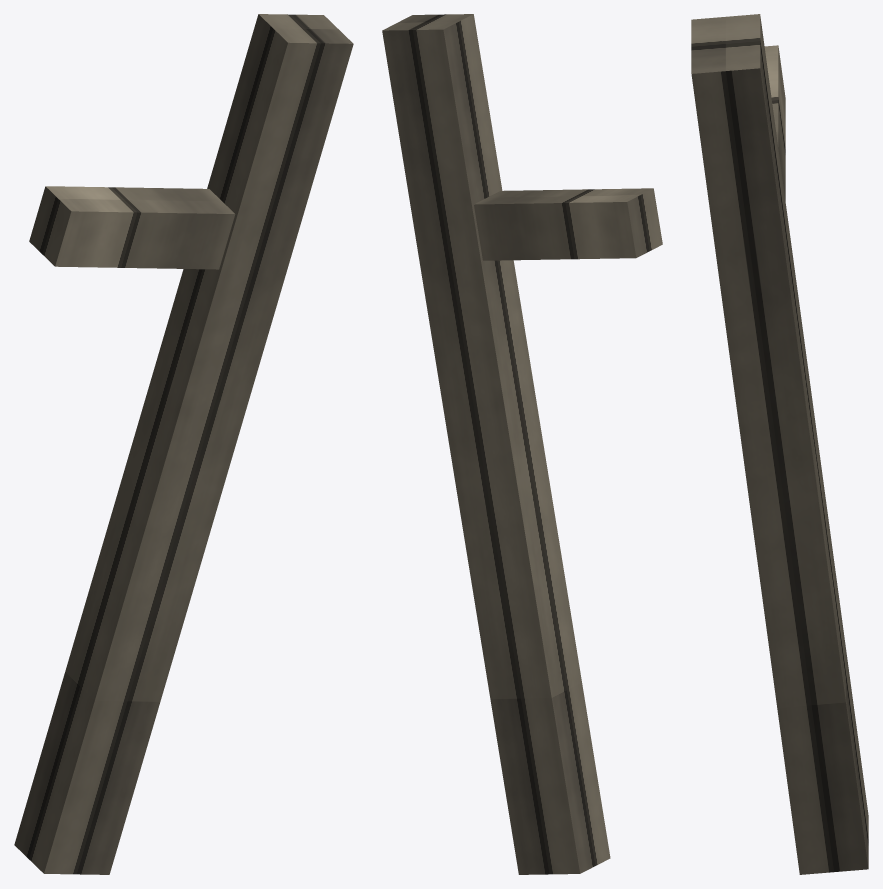
Rendered from Cross_Wood_3_LOD2.gltf.
3 views of the same model, side by side, from view 1: azimuth 30°, elevation 25°; view 2: azimuth 150°, elevation 25°; view 3: azimuth 270°, elevation 25° (orthographic). The views are drawn at different scales.
Visible parts, largest first — view 1: Cross_Wood_3_LOD2; view 2: Cross_Wood_3_LOD2; view 3: Cross_Wood_3_LOD2.
Part boxes in pixels (x1,y1,x2,y2): Cross_Wood_3_LOD2: (14, 14, 353, 874); Cross_Wood_3_LOD2: (382, 14, 662, 874); Cross_Wood_3_LOD2: (691, 14, 868, 874).
Bounding box in the file's own units: 0.4209 × 1.19 × 0.205.
Materials: 1 (1 with a texture image).
